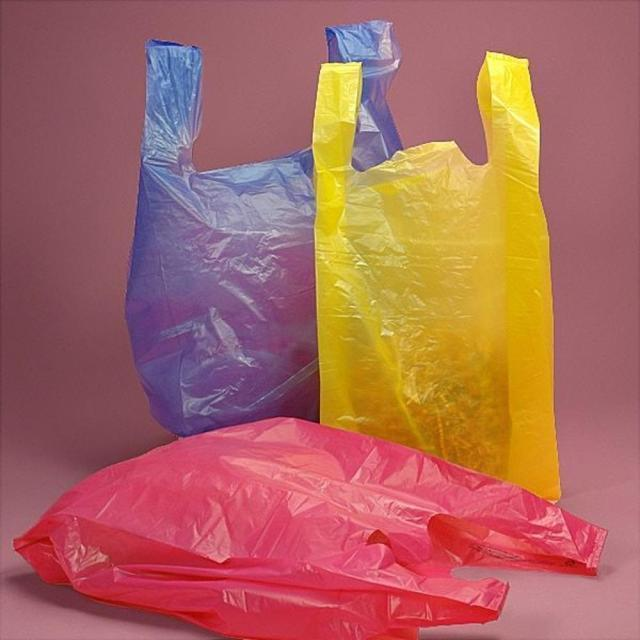Single-layer Plastic: (15, 418, 606, 639), (312, 52, 561, 499), (126, 40, 318, 435), (330, 21, 401, 169)
